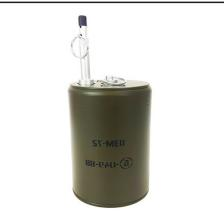OZM-72: (56, 36, 161, 216)
